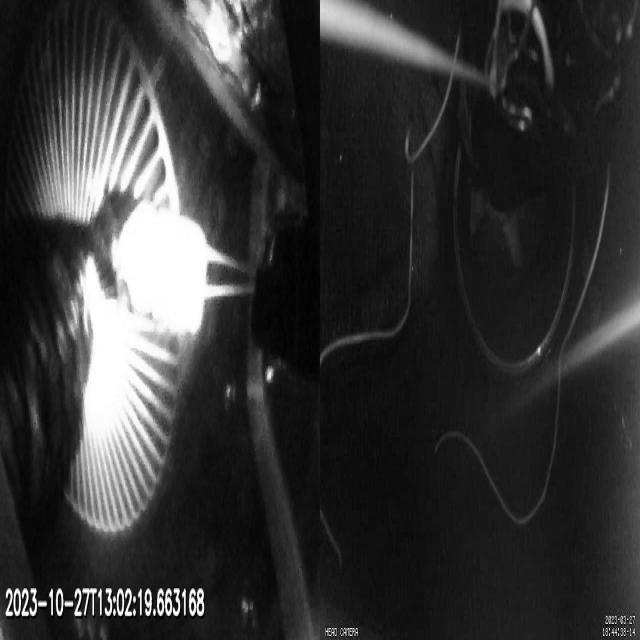head: (133, 201, 207, 336)
